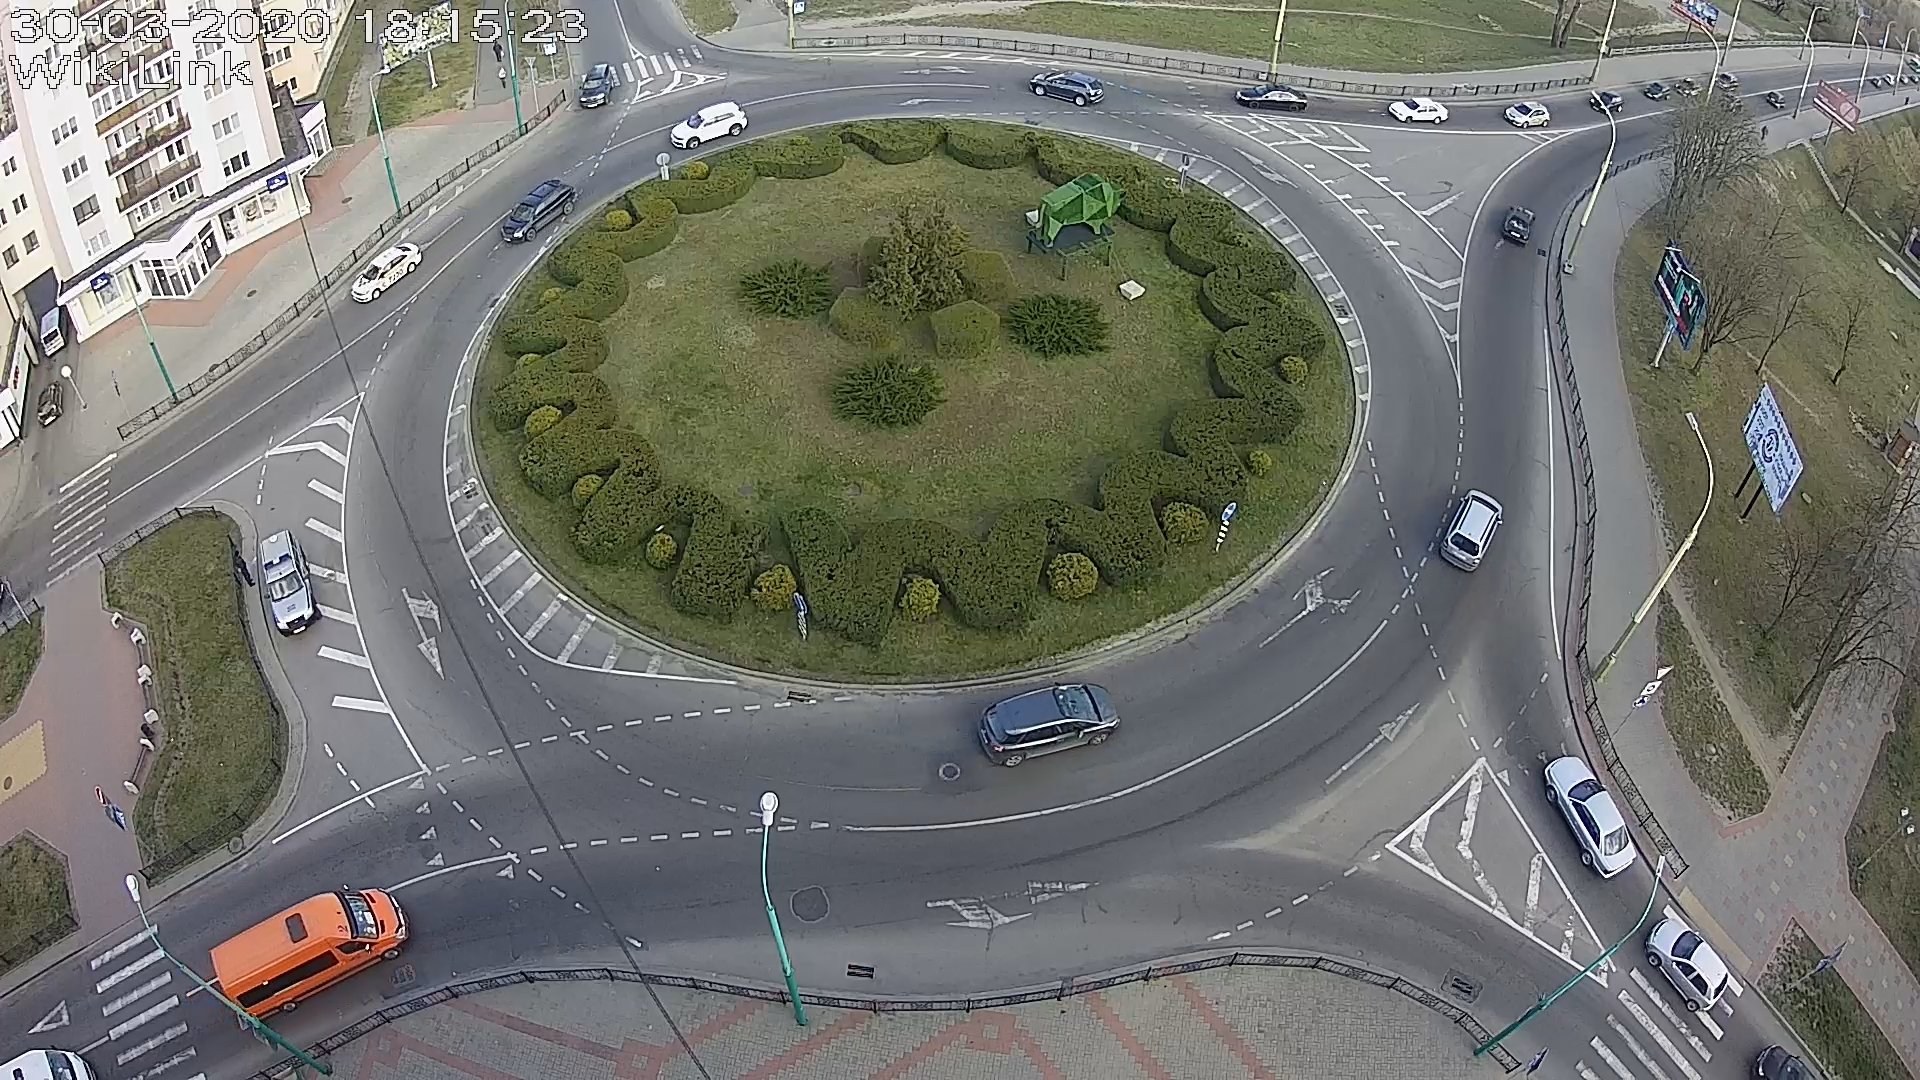car: (208, 885, 410, 1023), (977, 682, 1122, 767), (1543, 756, 1636, 880), (1644, 919, 1729, 1011), (258, 530, 322, 638), (1439, 489, 1503, 574), (500, 179, 576, 244), (349, 243, 423, 305), (669, 100, 749, 150), (1029, 71, 1105, 107), (1236, 84, 1308, 112), (1389, 98, 1449, 125), (579, 65, 615, 109), (1502, 204, 1536, 248), (1503, 102, 1551, 129), (1589, 90, 1626, 113)
